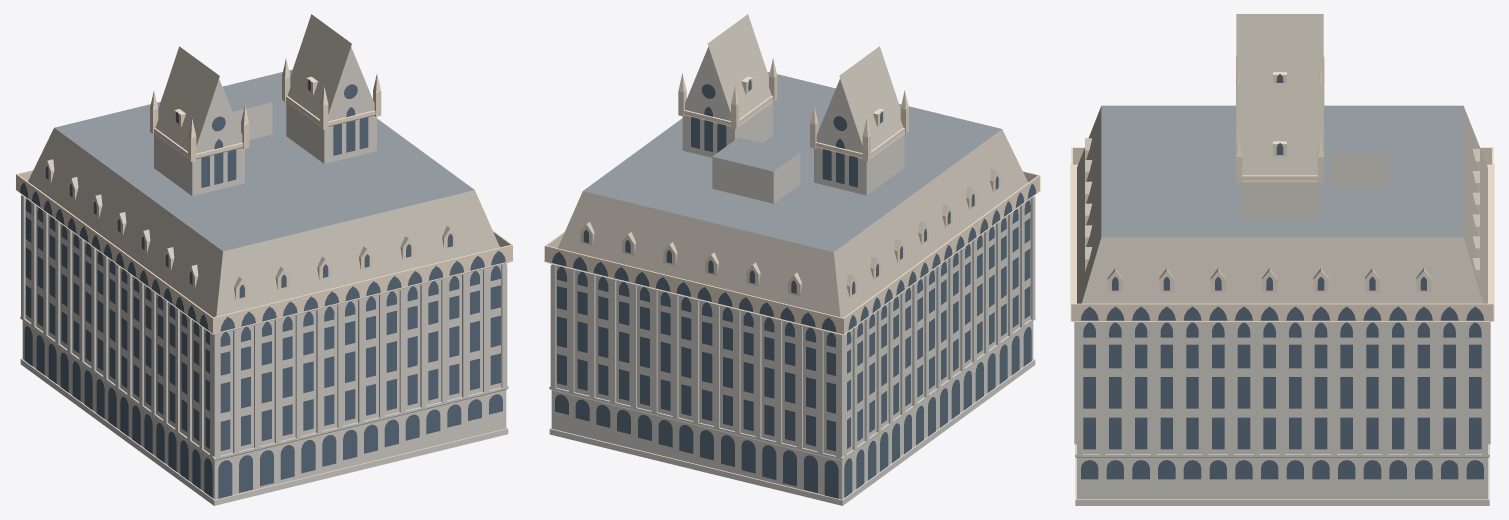
The model's file is pit-union-trust-building.glb.
3 renders of one model, left to right at view 1: azimuth 30°, elevation 25°; view 2: azimuth 150°, elevation 25°; view 3: azimuth 270°, elevation 25°, orthographic. The views are drawn at different scales.
Parts seen in each view (by area): view 1: Union Trust Building; view 2: Union Trust Building; view 3: Union Trust Building.
Part boxes in pixels (x1,y1,x2,y2): Union Trust Building: (15,14,513,505); Union Trust Building: (543,14,1040,505); Union Trust Building: (1070,14,1494,505).
Bounding box in the file's own units: 68.6 × 77.1 × 77.9.
